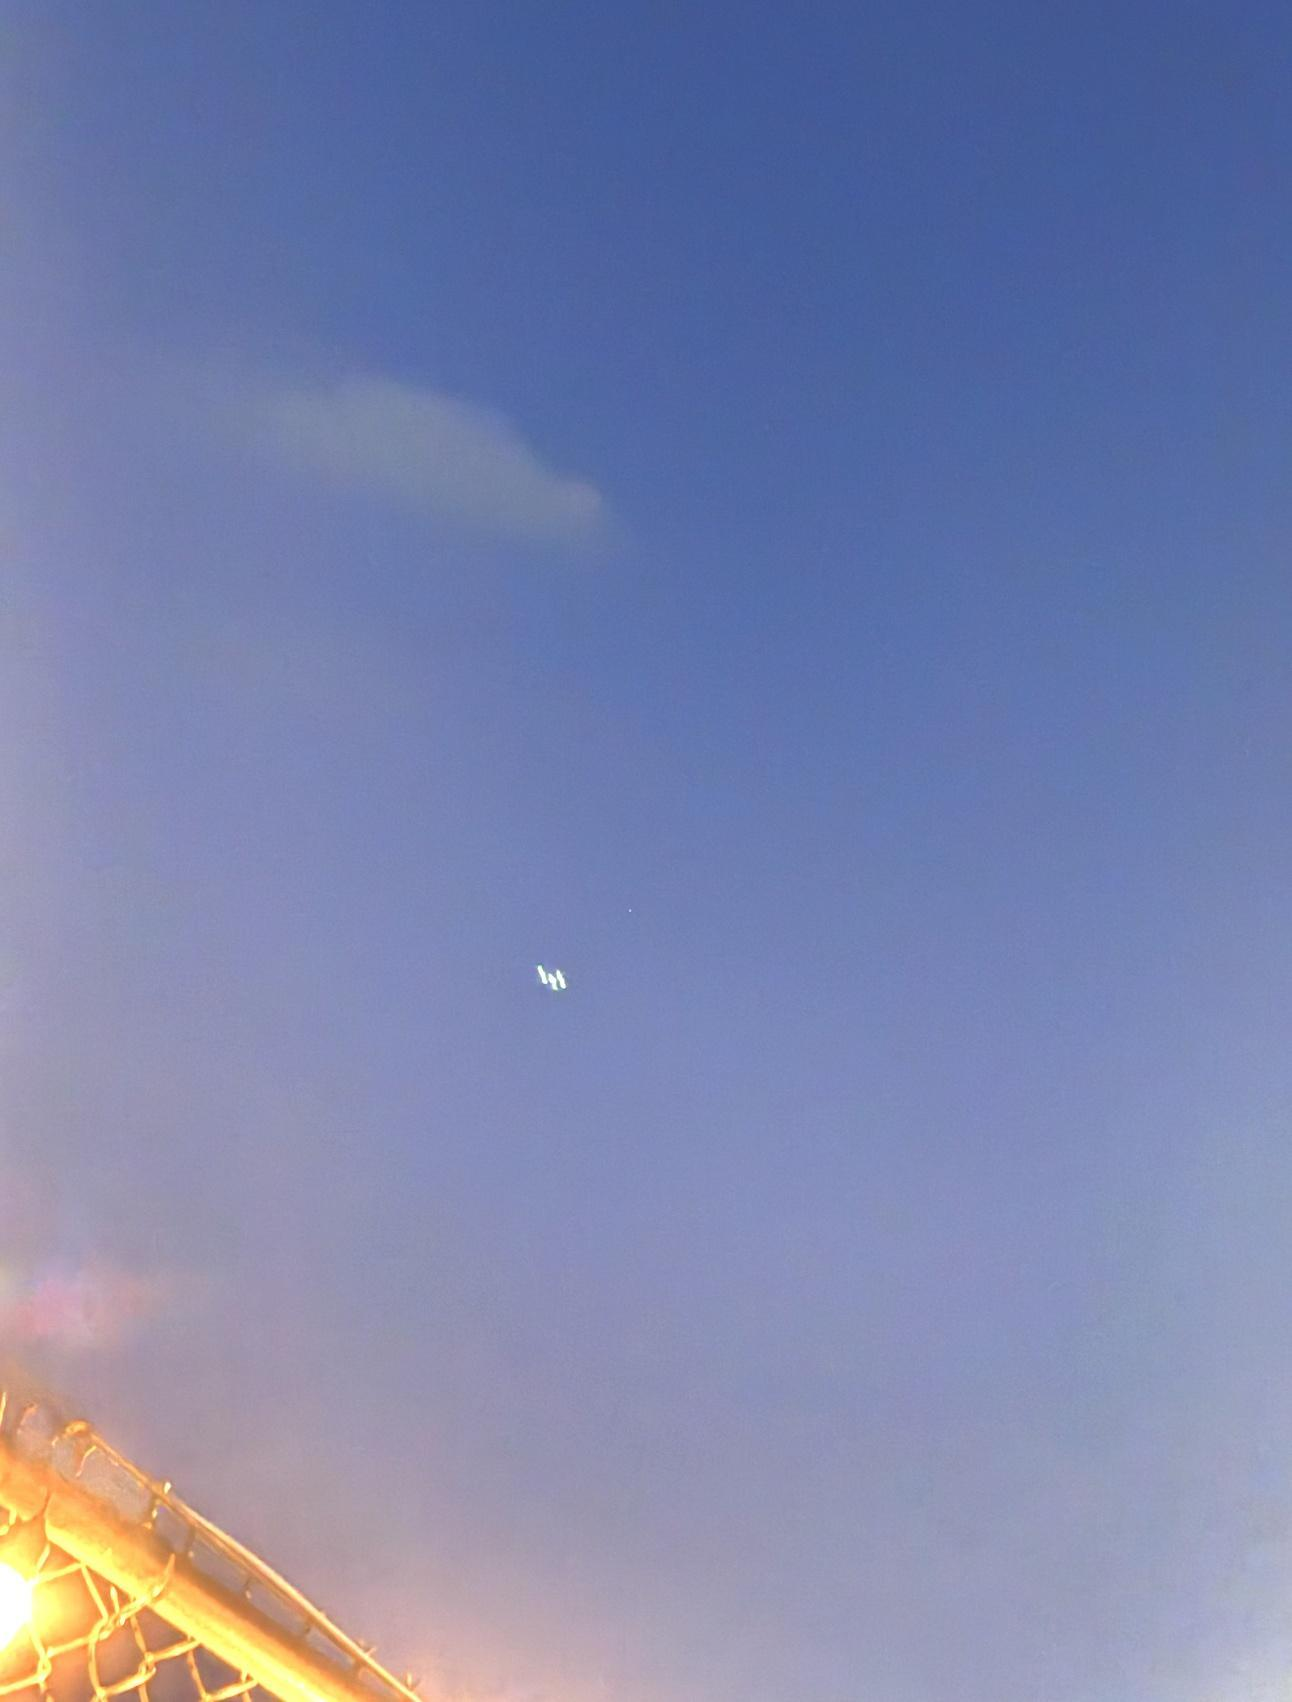Plane: (518, 945, 589, 1008)
